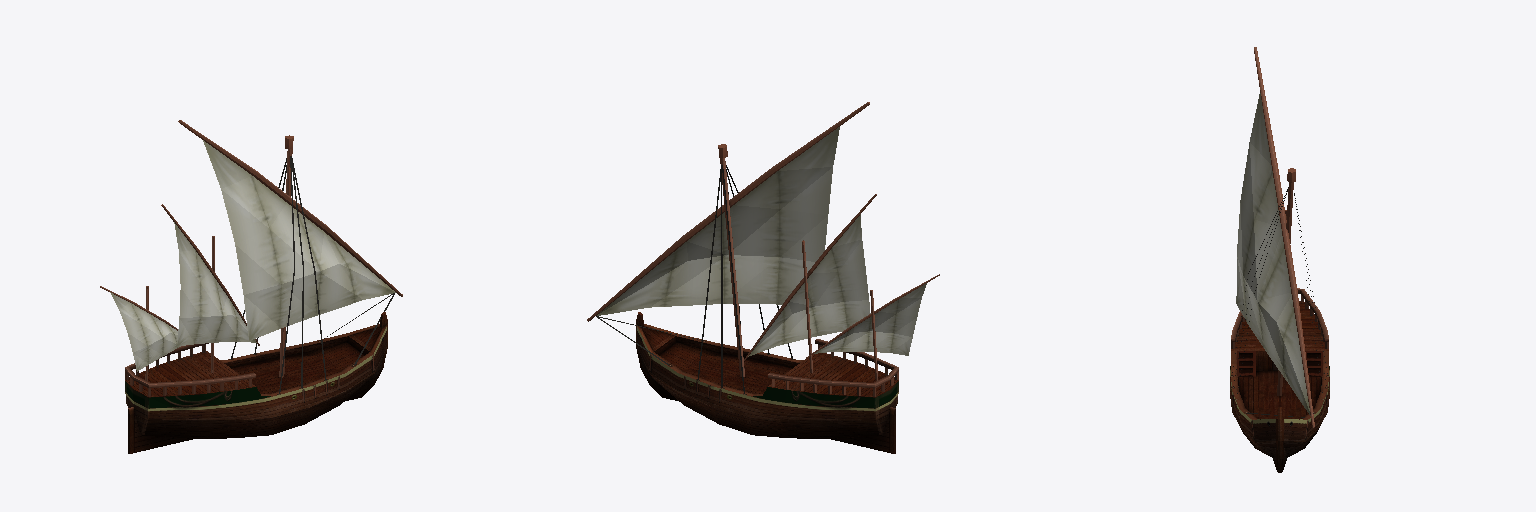
3 views of the same model, side by side, from view 1: azimuth 30°, elevation 25°; view 2: azimuth 150°, elevation 25°; view 3: azimuth 270°, elevation 25° (orthographic).
Parts seen in each view (by area): view 1: 02-barkas_Untitled.001; view 2: 02-barkas_Untitled.001; view 3: 02-barkas_Untitled.001.
Part boxes in pixels (left/top/right/bottom): 02-barkas_Untitled.001: left=100, top=120, right=402, bottom=453; 02-barkas_Untitled.001: left=587, top=102, right=939, bottom=453; 02-barkas_Untitled.001: left=1230, top=47, right=1329, bottom=472.
Size of the model in its own units: 0.7463 by 0.7245 by 0.1982.
2 materials, 1 textured.